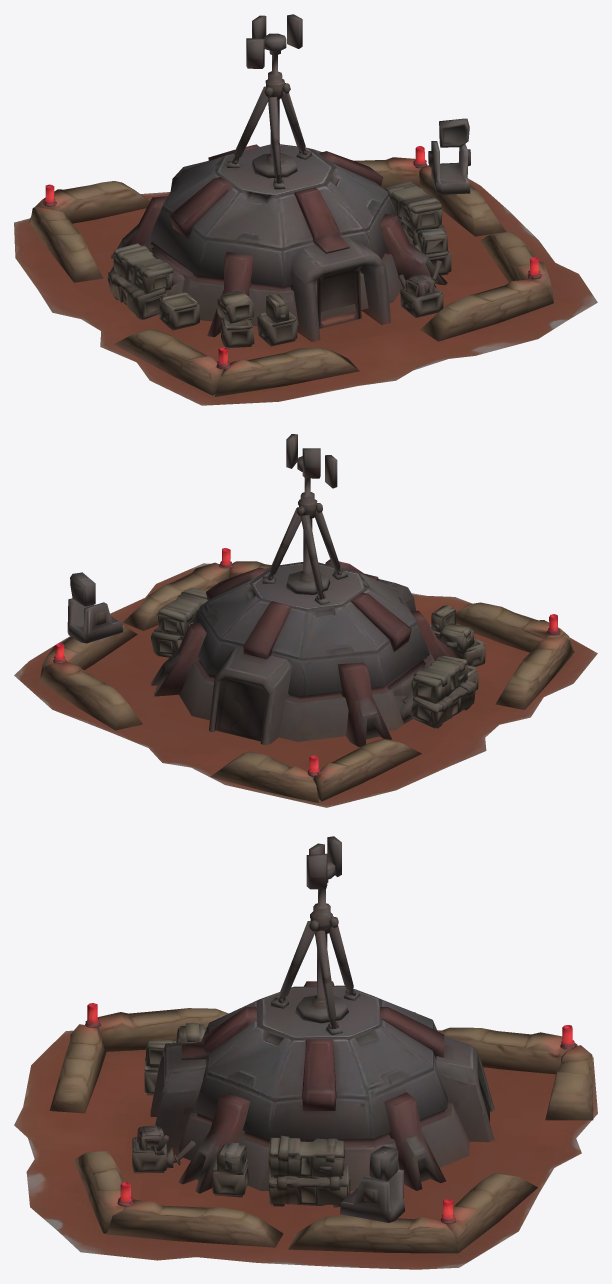
File: camp.glb
3 renders of one model, top to bottom at view 1: azimuth 30°, elevation 25°; view 2: azimuth 150°, elevation 25°; view 3: azimuth 270°, elevation 25°, orthographic. The views are drawn at different scales.
Visible parts, largest first — view 1: tripo_node_afe9fa0c-7f2f-41e0-b858-722f37022126; view 2: tripo_node_afe9fa0c-7f2f-41e0-b858-722f37022126; view 3: tripo_node_afe9fa0c-7f2f-41e0-b858-722f37022126.
Boxes of the visible parts, <box> form: tripo_node_afe9fa0c-7f2f-41e0-b858-722f37022126: <box>14,14,597,405</box>; tripo_node_afe9fa0c-7f2f-41e0-b858-722f37022126: <box>14,434,597,807</box>; tripo_node_afe9fa0c-7f2f-41e0-b858-722f37022126: <box>14,836,597,1269</box>.
Bounding box in the file's own units: 0.998 × 0.5527 × 0.9941.
1 material, 1 textured.
